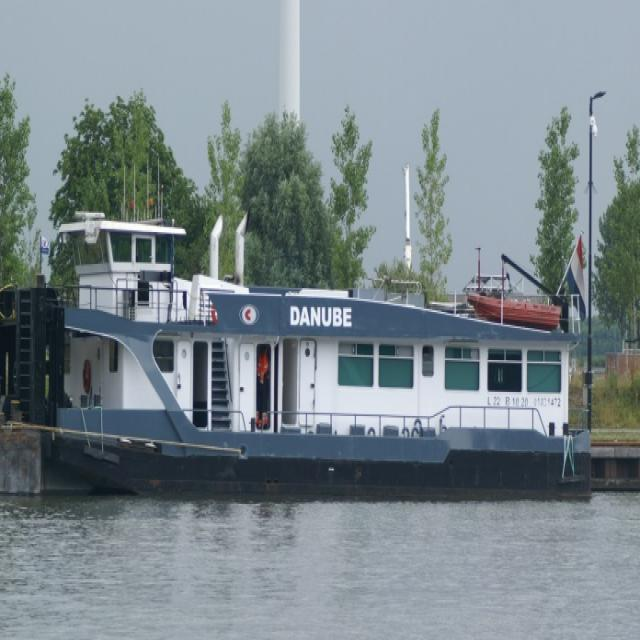tugboat: (1, 199, 598, 526)
